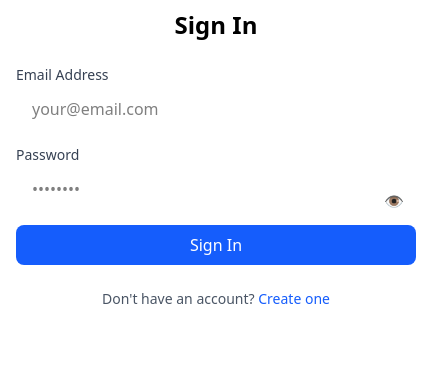
LoginForm › Validation › shows validation error for invalid email
Type "invalid-email" into the field labelled "Email Address" at (216, 109), box [16, 89, 416, 129]
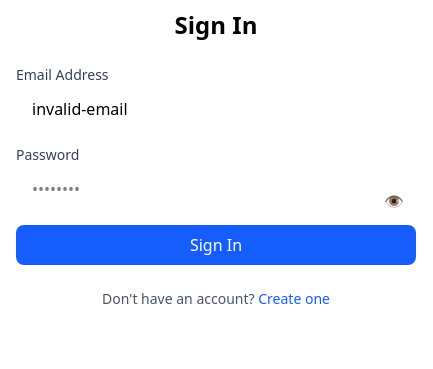
Click the button "Sign In" at (216, 245), box [16, 225, 416, 265]
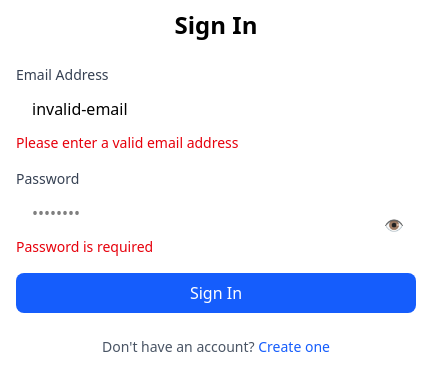
Expected: the text "Please enter a valid email address" is shown, [16, 133, 238, 152]
